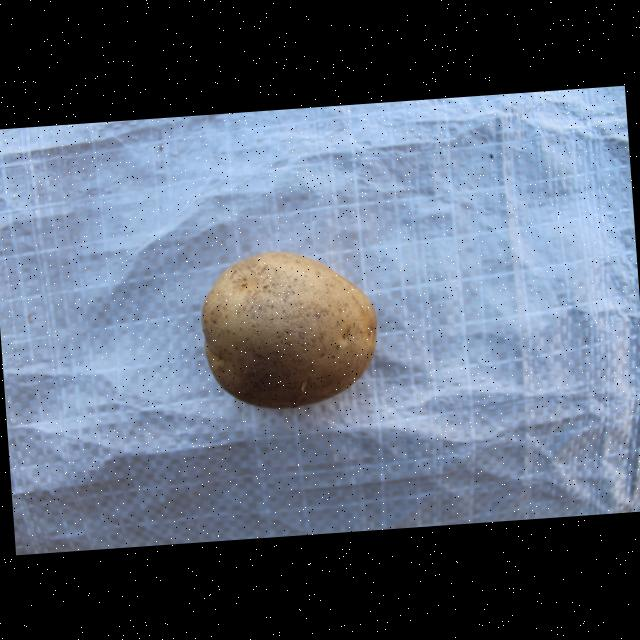Diseased-fungal potato: (192, 241, 386, 413)
